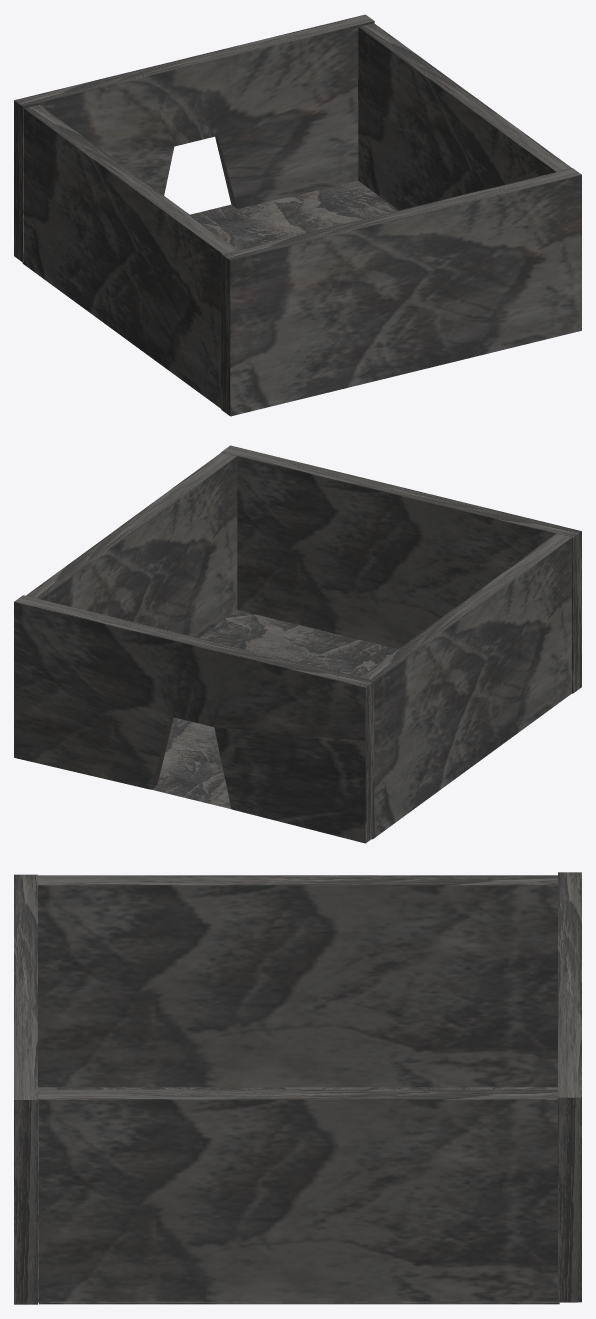
Rendered from LocationScaleDoorTestTextures.fbx.
The picture shows the model from 3 angles, top to bottom: view 1: azimuth 30°, elevation 25°; view 2: azimuth 150°, elevation 25°; view 3: azimuth 270°, elevation 25°; orthographic projection. The views are drawn at different scales.
Parts seen in each view (by area): view 1: Floor; view 2: Floor; view 3: Floor.
Part boxes in pixels (<box>): Floor: <box>14,14,581,416</box>; Floor: <box>14,445,581,843</box>; Floor: <box>14,872,581,1304</box>.
Bounding box in the file's own units: 7254 × 3105 × 7714.
